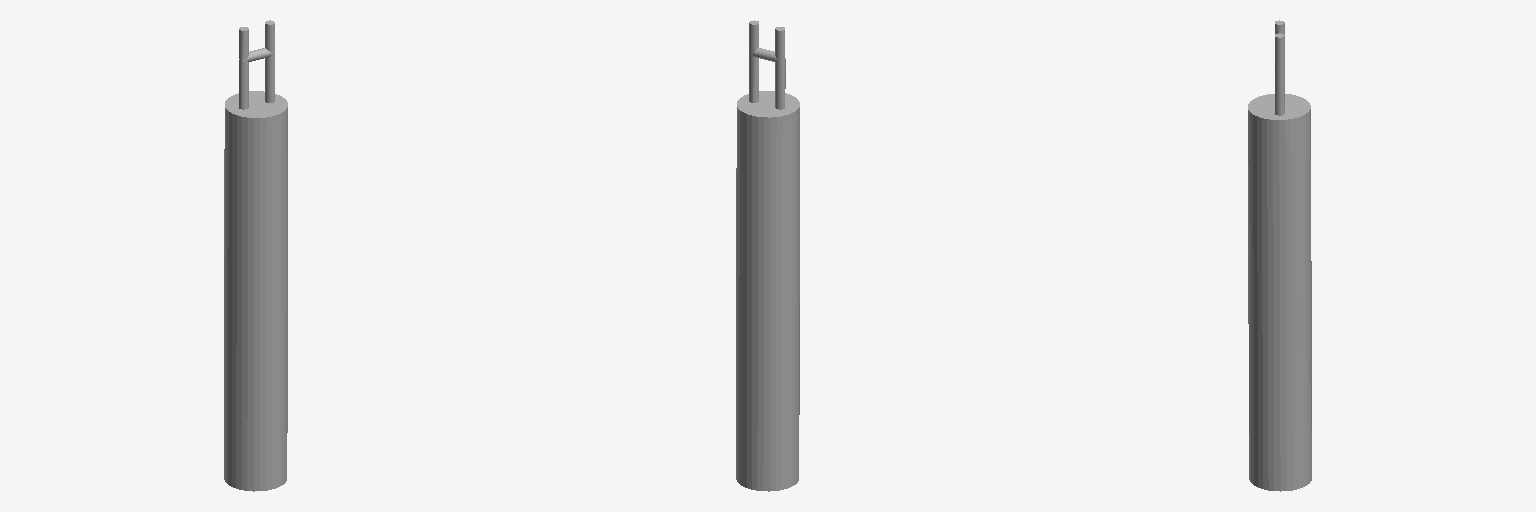
URDF robot description (my_specimen):
<?xml version="1.0" ?>
<robot name="my_specimen">
  <material name="silver">
    <color rgba="0.75 0.75 0.75 1.0"/>
  </material>
  <link name="tcp">
  </link>
  <joint name="gripping_trafo" type="fixed">
		<parent link="tcp"/>
		<child link="head"/>
		<origin xyz="0.0 -0.01 0" rpy="1.57 0 3.14"/>
  </joint>
  <link name="head">
    <visual>
      <geometry>
        <mesh filename="endeffector.stl"/>
      </geometry>
      <material name="silver"/>
    </visual>
    <collision>
      <geometry>
        <mesh filename="endeffector.stl"/>
      </geometry>
    </collision>
    <inertial>
      <mass value="1"/>
      <origin xyz="0 0 0" rpy="0 0 0"/>
      <inertia ixx="0.0" ixy="0.0" ixz="0.0" iyy="0.0" iyz="0.0" izz="0.00"/>
    </inertial>
  </link>
</robot>

--- Render facts (derived) ---
3 views of the same robot in one strip: view 1: azimuth 30°, elevation 25°; view 2: azimuth 150°, elevation 25°; view 3: azimuth 270°, elevation 25° (orthographic).
Robot: my_specimen — 2 links, 1 joints (1 fixed); root link tcp; default pose: all joints at 0.
Links seen in each view (by area): view 1: head; view 2: head; view 3: head.
Boxes of the visible links, <box> form: head: <box>224,20,287,491</box>; head: <box>736,20,799,491</box>; head: <box>1248,20,1311,491</box>.
Bounding box of the posed robot: 0.0387 × 0.0395 × 0.3035 m (x, y, z).
Meshes: 1 distinct files referenced, 1 mesh visuals loaded (1 binary STL).